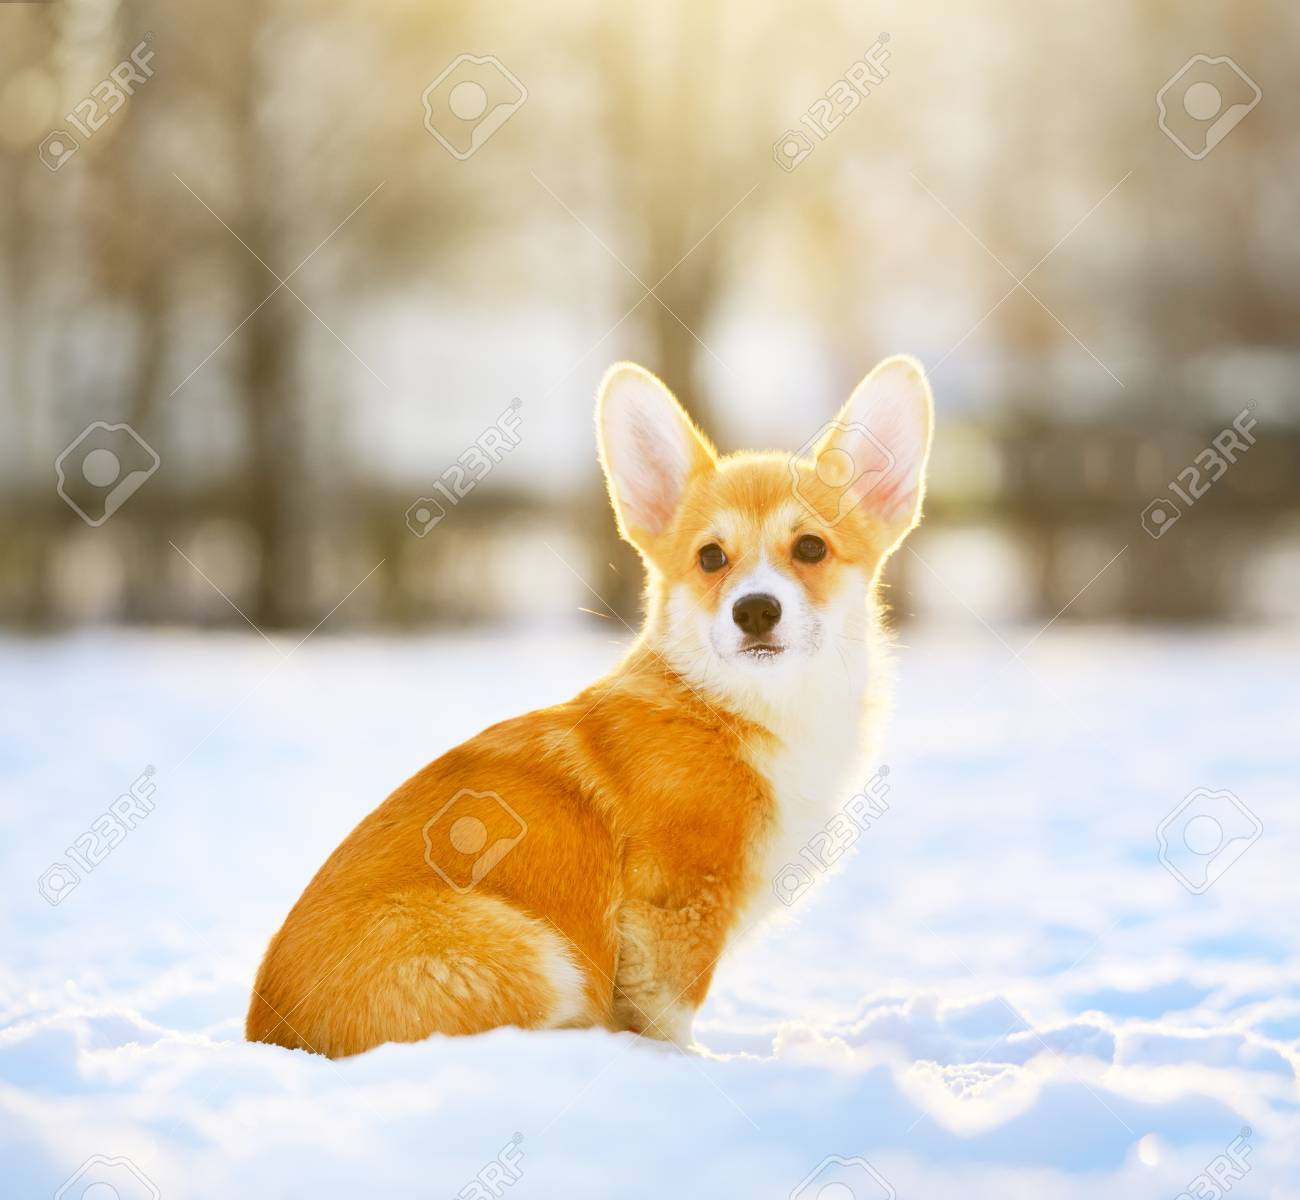corgi: (272, 350, 944, 1070)
